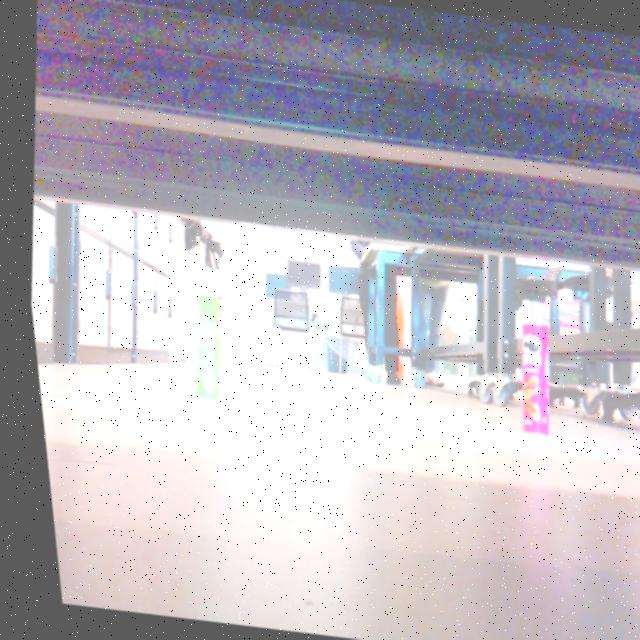greenpringles: (167, 282, 234, 414)
redpringles: (489, 308, 562, 448)
